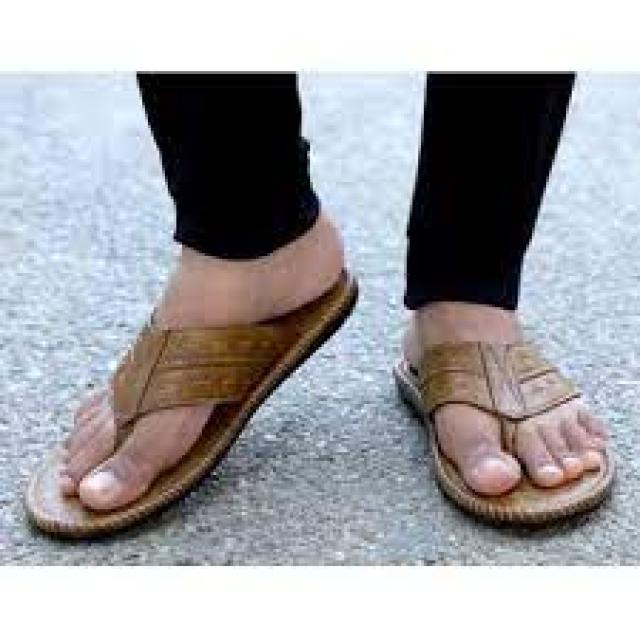Sandals: (28, 169, 358, 535), (394, 294, 616, 524)
